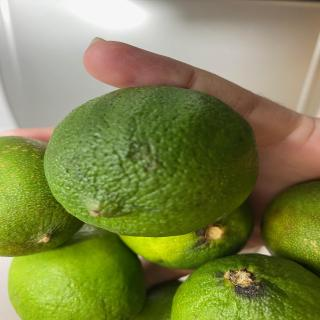Chilli: (43, 85, 260, 238)
Lemon: (8, 223, 146, 320), (0, 135, 84, 257), (170, 252, 320, 320), (118, 200, 254, 270), (260, 179, 320, 276)
